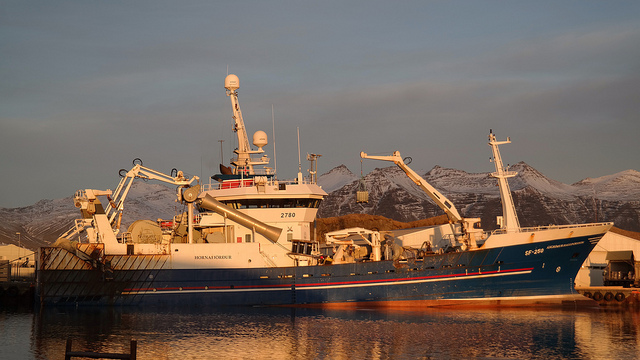fishing_boat: (34, 65, 608, 313)
